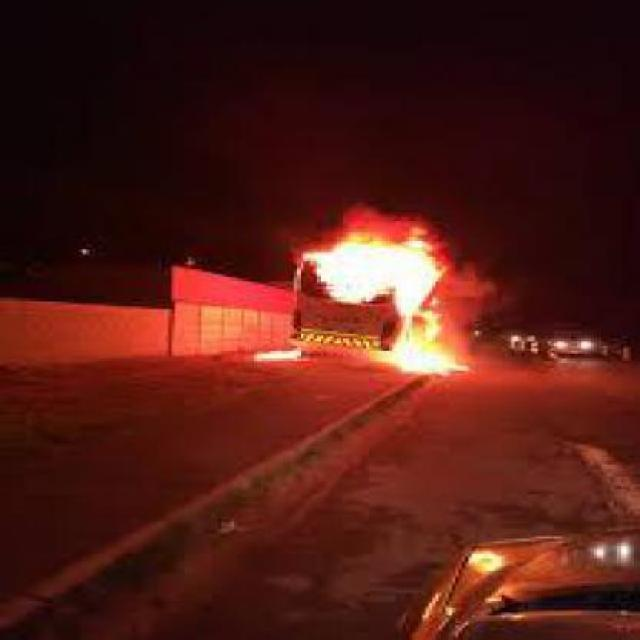Fire: (277, 208, 468, 368)
